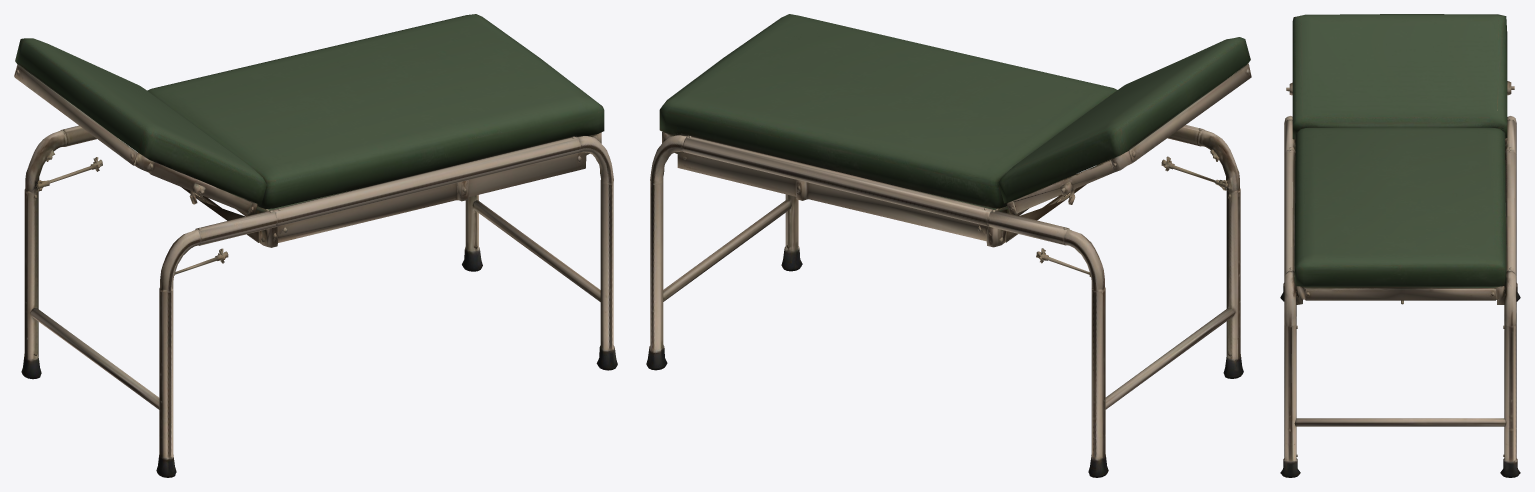
File: furniture-examination-cot.glb
3 views of the same model, side by side, from view 1: azimuth 30°, elevation 25°; view 2: azimuth 150°, elevation 25°; view 3: azimuth 270°, elevation 25° (orthographic). The views are drawn at different scales.
Parts seen in each view (by area): view 1: tripo_node_cde5f0c6-a9bb-40f5-9b48-2029f1112fcc; view 2: tripo_node_cde5f0c6-a9bb-40f5-9b48-2029f1112fcc; view 3: tripo_node_cde5f0c6-a9bb-40f5-9b48-2029f1112fcc.
Part boxes in pixels (left/top/right/bottom): tripo_node_cde5f0c6-a9bb-40f5-9b48-2029f1112fcc: left=14, top=14, right=617, bottom=477; tripo_node_cde5f0c6-a9bb-40f5-9b48-2029f1112fcc: left=646, top=14, right=1251, bottom=477; tripo_node_cde5f0c6-a9bb-40f5-9b48-2029f1112fcc: left=1280, top=14, right=1520, bottom=477.
Bounding box in the file's own units: 1.3 × 0.9 × 0.7.
Materials: 1 (1 with a texture image).
